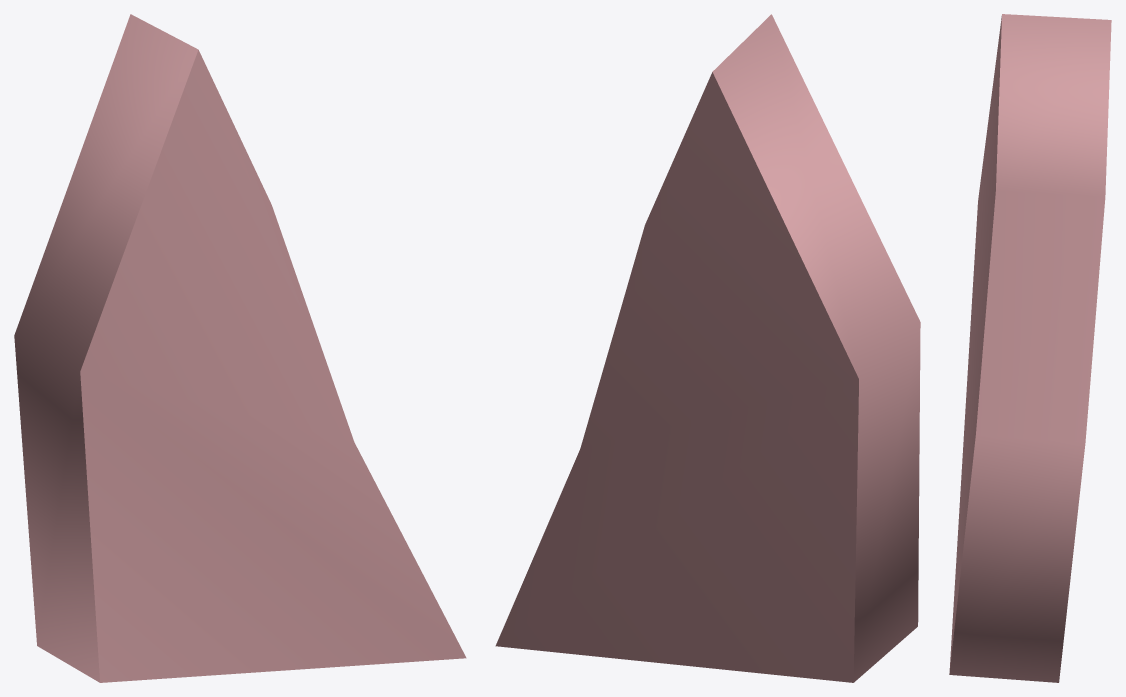
3 renders of one model, left to right at view 1: azimuth 30°, elevation 25°; view 2: azimuth 150°, elevation 25°; view 3: azimuth 270°, elevation 25°, orthographic. The views are drawn at different scales.
Parts seen in each view (by area): view 1: ZA_376ac882a3c236cd; view 2: ZA_376ac882a3c236cd; view 3: ZA_376ac882a3c236cd.
Part boxes in pixels (bbox=[...]): ZA_376ac882a3c236cd: bbox=[14, 14, 466, 682]; ZA_376ac882a3c236cd: bbox=[495, 14, 920, 682]; ZA_376ac882a3c236cd: bbox=[949, 14, 1111, 682].
Size of the model in its own units: 0.0102 by 0.0171 by 0.00442.
